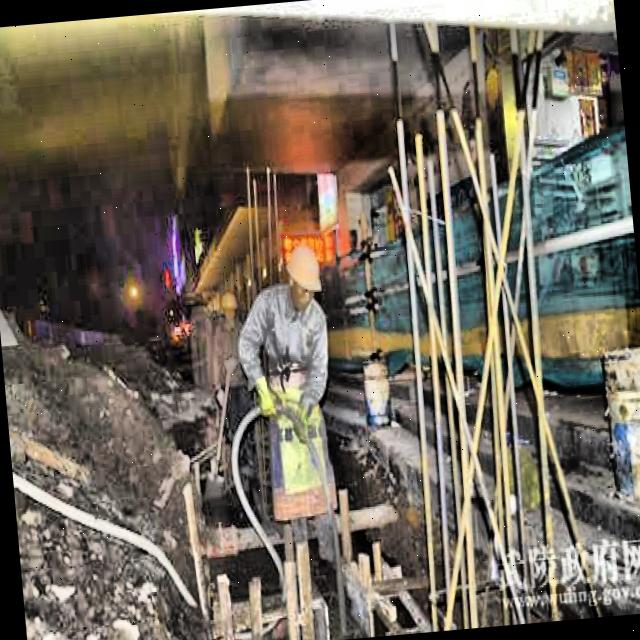helmet: (278, 240, 328, 316), (218, 292, 238, 322)
